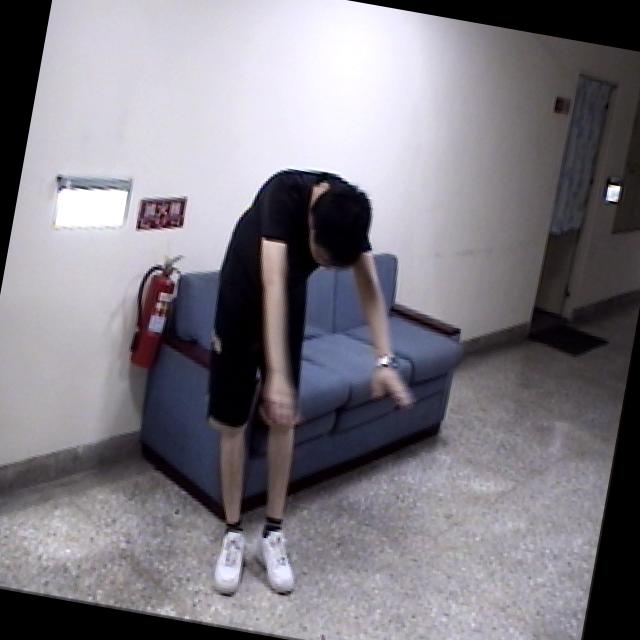bend: (158, 150, 464, 632)
